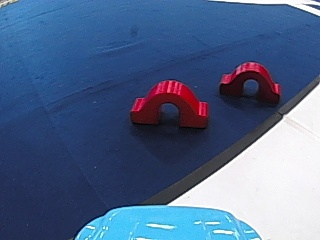bridge: (125, 75, 214, 128), (217, 57, 283, 104)
